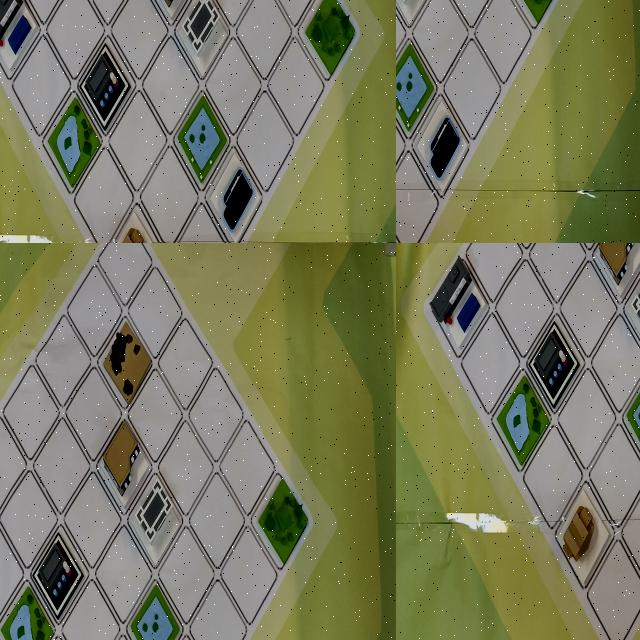bus_stop: (425, 251, 493, 359), (158, 16, 219, 122), (95, 491, 146, 575), (396, 0, 424, 43)
factory: (428, 83, 484, 182), (527, 312, 581, 412), (121, 192, 186, 243), (24, 427, 72, 492)
fish_pool: (200, 510, 248, 585), (252, 0, 304, 45), (618, 371, 640, 466), (492, 0, 540, 43)
forest: (27, 23, 90, 126), (168, 390, 214, 464), (396, 94, 424, 185)
gogo_shop: (254, 0, 306, 73), (121, 577, 173, 640), (396, 0, 423, 79)
research_build: (142, 478, 192, 557), (214, 0, 273, 49), (430, 0, 486, 46)
restaurant: (225, 123, 287, 235), (56, 552, 105, 624), (433, 0, 482, 63), (588, 243, 640, 295)
silicate_rock: (406, 147, 461, 243), (72, 393, 118, 472), (93, 0, 149, 47), (594, 243, 640, 289)
volunteer_center: (554, 492, 614, 597), (122, 401, 168, 481), (396, 91, 423, 193), (160, 0, 214, 43), (622, 249, 640, 351)
wet_land: (494, 369, 556, 472), (0, 0, 58, 76), (44, 485, 95, 552), (396, 0, 424, 82)
